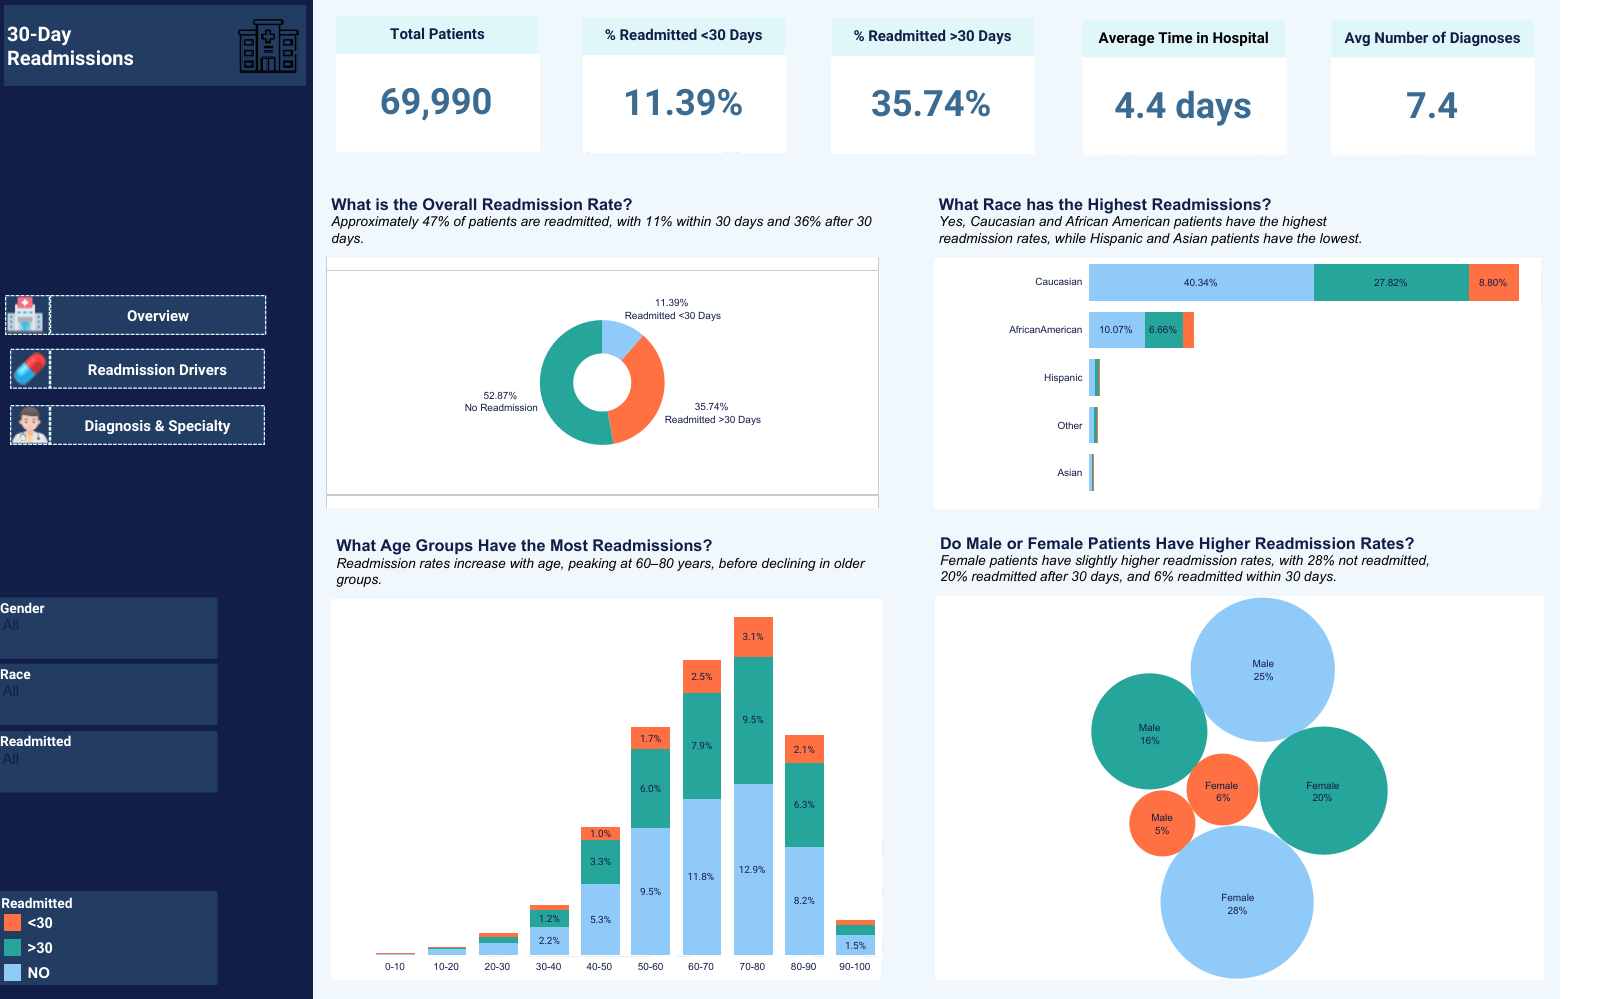

The page's visual inventory and layout, read from the dashboard file:
{"tool":"tableau","page":{"name":"Overview","canvas":[1280,800],"ordinal":1},"visuals":[{"type":"text","box":[3,4,242,65]},{"type":"worksheet","title":"Total Patients","mark":"Text","box":[265,9,170,115]},{"type":"worksheet","title":"% Readmitted <30 Days","mark":"Text","box":[462,10,170,115]},{"type":"worksheet","title":"% Readmitted >30 Days","mark":"Text","box":[661,11,170,115]},{"type":"image","param":"Image/hospital.png","box":[190,12,49,52]},{"type":"worksheet","title":"Average Time in Hospital","mark":"Text","box":[862,12,170,115]},{"type":"worksheet","title":"Average Number of Diagnoses","mark":"Text","box":[1061,12,170,115]},{"type":"worksheet","title":"Readmission Status","mark":"Pie","cols":["Calculation_720857471674560531","Calculation_720857471674605589"],"box":[257,146,451,265]},{"type":"worksheet","title":"Race by Readmission","mark":"Automatic","rows":["race"],"box":[743,146,493,265]},{"type":"image","param":"Image/hospital-building.png","box":[4,236,36,32]},{"type":"dashboard-object","box":[40,236,173,32]},{"type":"image","param":"Image/pill.png","box":[8,279,32,32]},{"type":"dashboard-object","box":[40,279,172,32]},{"type":"image","param":"Image/doctor.png","box":[8,324,32,32]},{"type":"dashboard-object","box":[40,324,172,32]},{"type":"worksheet","title":"Gender by Readmission","mark":"Circle","box":[744,417,494,370]},{"type":"worksheet","title":"Age by Readmission","mark":"Automatic","rows":["Calculation_720857471560171522"],"cols":["age"],"box":[261,419,448,369]},{"type":"parameter","param":"[Parameters].[Parameter 1]","box":[24.6,428.4,98.5,52.4]},{"type":"filter","title":"Race by Readmission","param":"[federated.1q17rmz0w1v3bb1asqrtu10nznnr].[none:gender:nk]","box":[0,478,174,49]},{"type":"filter","title":"Race by Readmission","param":"[federated.1q17rmz0w1v3bb1asqrtu10nznnr].[none:race:nk]","box":[0,531,174,49]},{"type":"filter","title":"Race by Readmission","param":"[federated.1q17rmz0w1v3bb1asqrtu10nznnr].[none:readmitted:nk]","box":[0,585,174,49]},{"type":"legend","title":"Race by Readmission","param":"[federated.1q17rmz0w1v3bb1asqrtu10nznnr].[none:readmitted:nk]","box":[0,713,174,83]}]}

Visuals, with their boxes on the page's 1280x800 design canvas (x1, y1, x2, y2). These are canvas units, not pixel positions in the 1599x999 screenshot, which may show the page scaled, cropped or inside an application window:
text: 3/4/245/69
"Total Patients" worksheet (Text marks): 265/9/435/124
"% Readmitted <30 Days" worksheet (Text marks): 462/10/632/125
"% Readmitted >30 Days" worksheet (Text marks): 661/11/831/126
image: 190/12/239/64
"Average Time in Hospital" worksheet (Text marks): 862/12/1032/127
"Average Number of Diagnoses" worksheet (Text marks): 1061/12/1231/127
"Readmission Status" worksheet (Pie marks): 257/146/708/411
"Race by Readmission" worksheet: 743/146/1236/411
image: 4/236/40/268
dashboard-object: 40/236/213/268
image: 8/279/40/311
dashboard-object: 40/279/212/311
image: 8/324/40/356
dashboard-object: 40/324/212/356
"Gender by Readmission" worksheet (Circle marks): 744/417/1238/787
"Age by Readmission" worksheet: 261/419/709/788
parameter: 25/428/123/481
"Race by Readmission" filter: 0/478/174/527
"Race by Readmission" filter: 0/531/174/580
"Race by Readmission" filter: 0/585/174/634
"Race by Readmission" legend: 0/713/174/796
